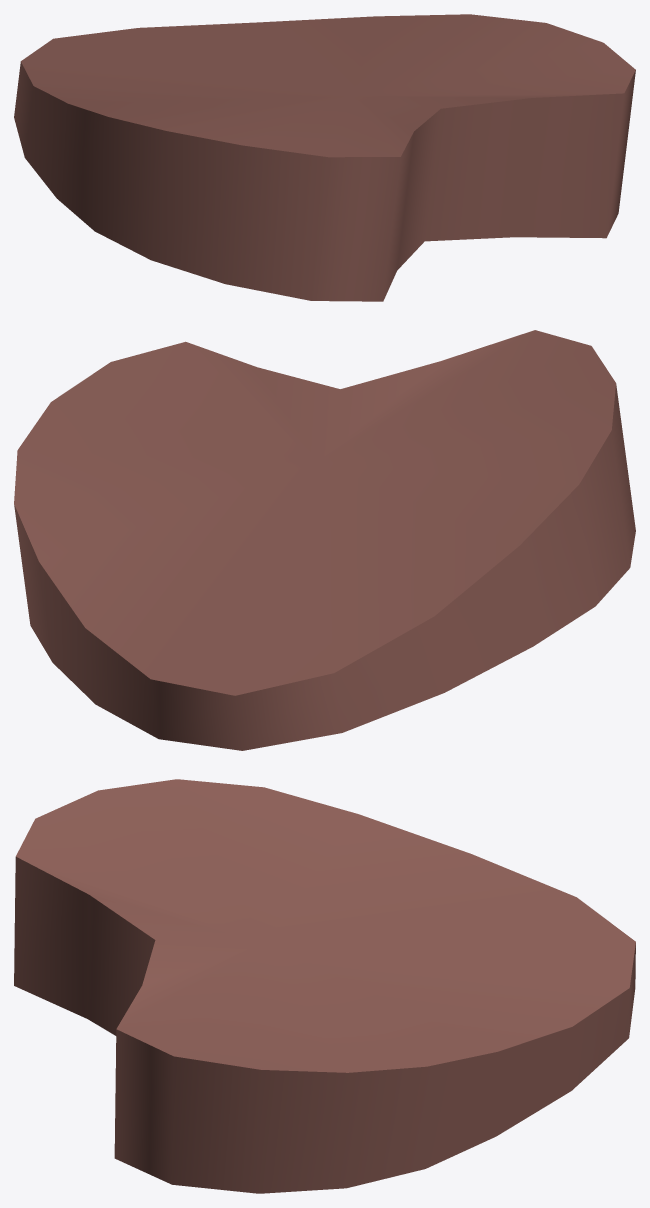
Rendered from Heart.fbx.
The picture shows the model from 3 angles, top to bottom: view 1: azimuth 30°, elevation 25°; view 2: azimuth 150°, elevation 25°; view 3: azimuth 270°, elevation 25°; orthographic projection. The views are drawn at different scales.
Visible parts, largest first — view 1: pCylinder14; view 2: pCylinder14; view 3: pCylinder14.
Part boxes in pixels (x1,y1,x2,y2): pCylinder14: (14,14,635,301); pCylinder14: (14,330,635,750); pCylinder14: (14,779,635,1193).
Size of the model in its own units: 0.7213 by 0.2712 by 0.7731.
